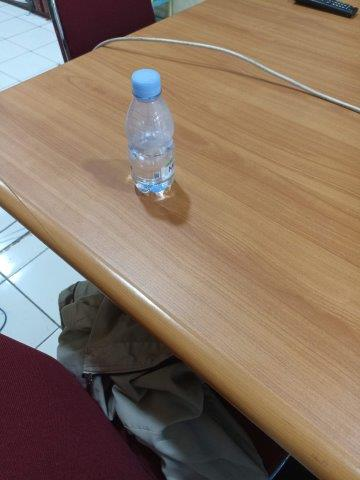botolplastik: (125, 68, 175, 195)
